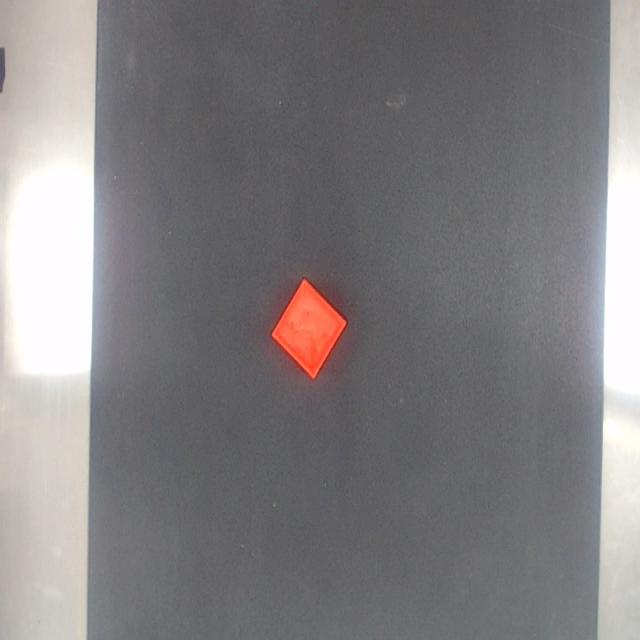Rojo: (271, 279, 346, 380)
